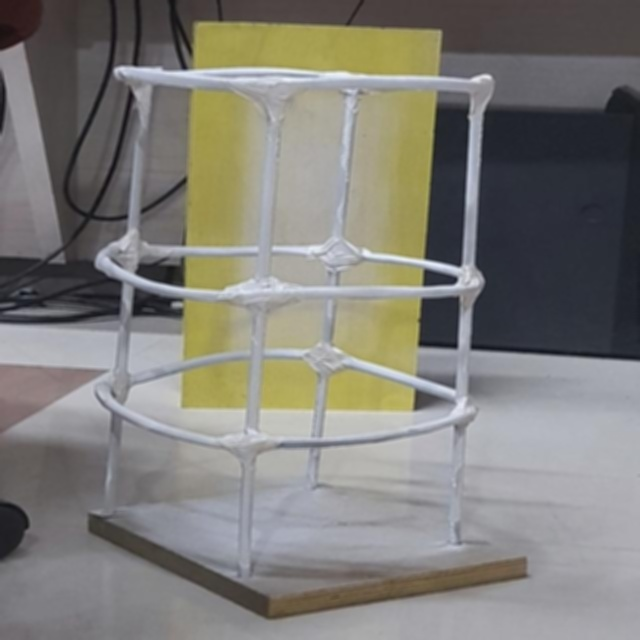silo: (102, 56, 496, 597)
